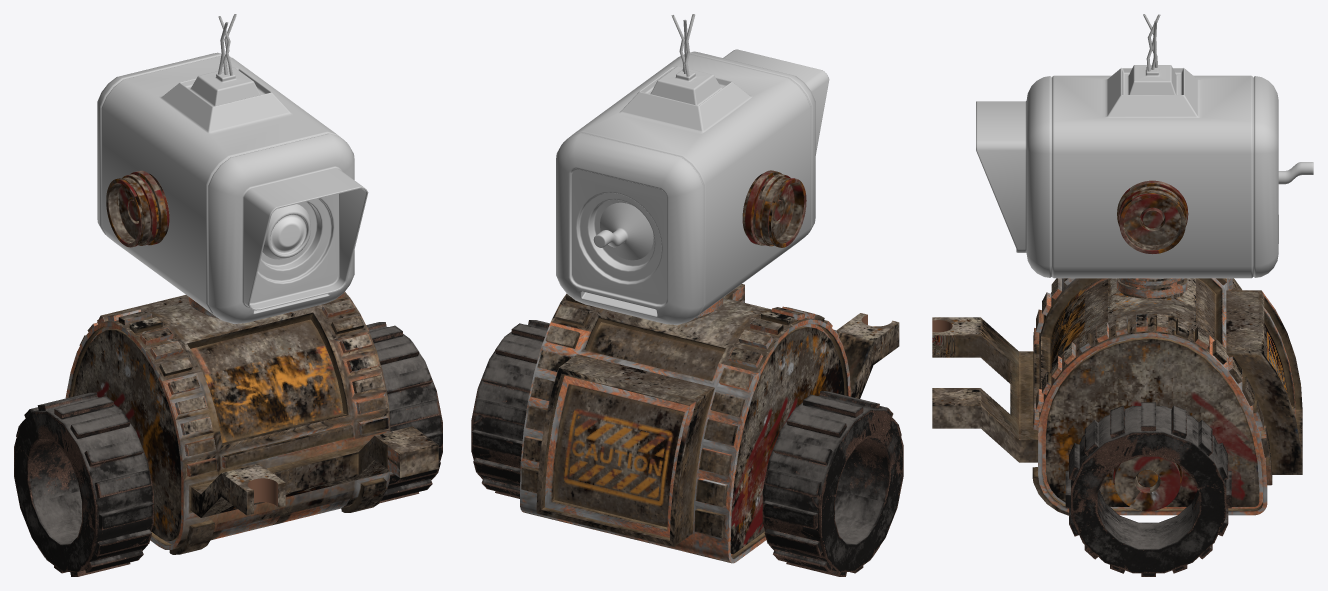
Rendered from Robot_Full.fbx.
3 renders of one model, left to right at view 1: azimuth 30°, elevation 25°; view 2: azimuth 150°, elevation 25°; view 3: azimuth 270°, elevation 25°, orthographic. The views are drawn at different scales.
Parts seen in each view (by area): view 1: Body.002, Head.002, Wheels.003; view 2: Body.002, Head.002, Wheels.003; view 3: Head.002, Body.002, Wheels.003.
Boxes of the visible parts, x1,y1,x2,y2 form: Body.002: [65, 292, 438, 554]; Head.002: [97, 14, 368, 323]; Wheels.003: [14, 322, 442, 576]; Body.002: [520, 284, 899, 563]; Head.002: [556, 14, 829, 324]; Wheels.003: [471, 320, 903, 576]; Head.002: [976, 14, 1313, 298]; Body.002: [932, 278, 1302, 515]; Wheels.003: [1065, 402, 1231, 576].
Size of the model in its own units: 75.11 by 105 by 75.59.
